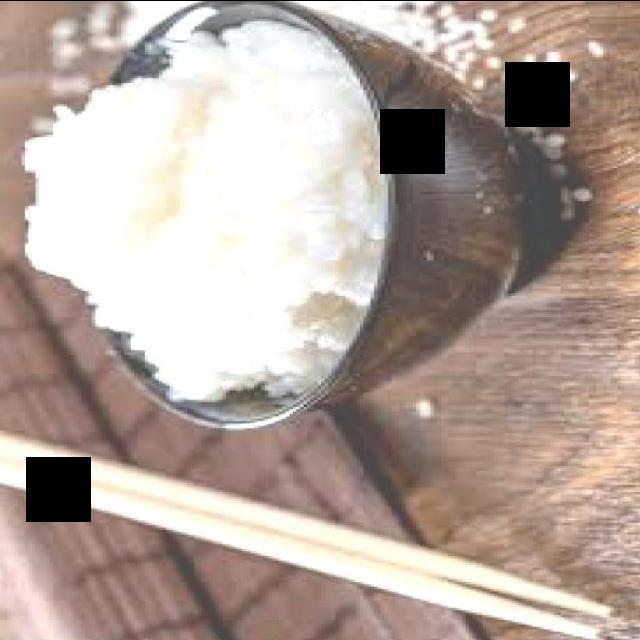rice: (20, 22, 383, 404)
